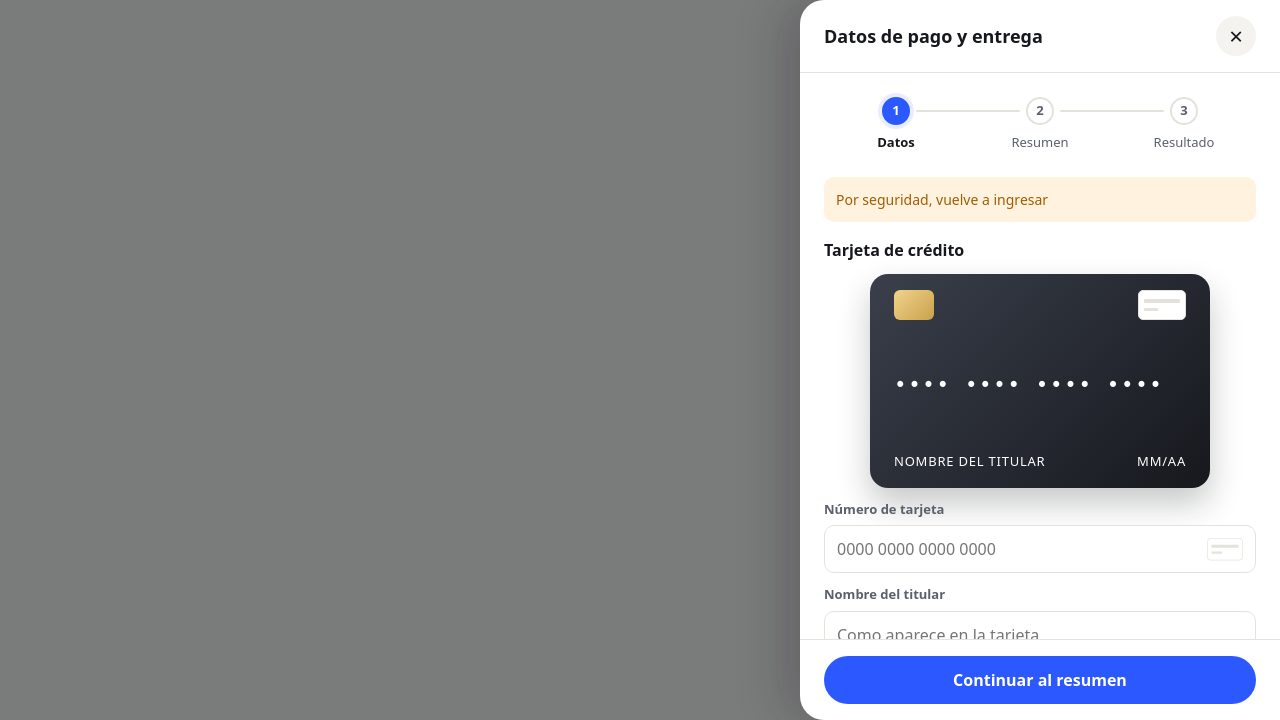
Test case: CheckoutModal › shows the tokenization error and the refresh notice
Expected: the message shows "Por seguridad", [836,190,1048,208]
Type "4242424242424242" into the field labelled "Número de tarjeta" at (1016, 549), box [825,526,1207,572]
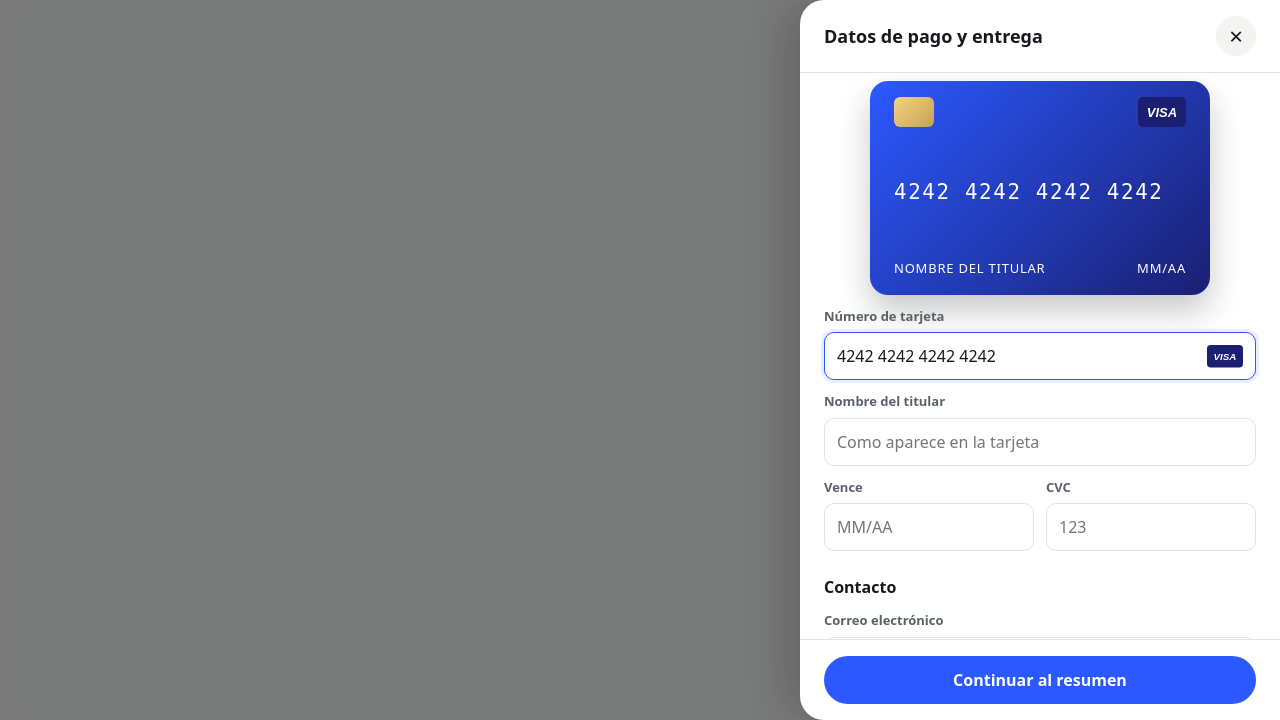
Type "Ana Gomez" into the field labelled "Nombre del titular" at (1040, 442), box [825,419,1255,465]
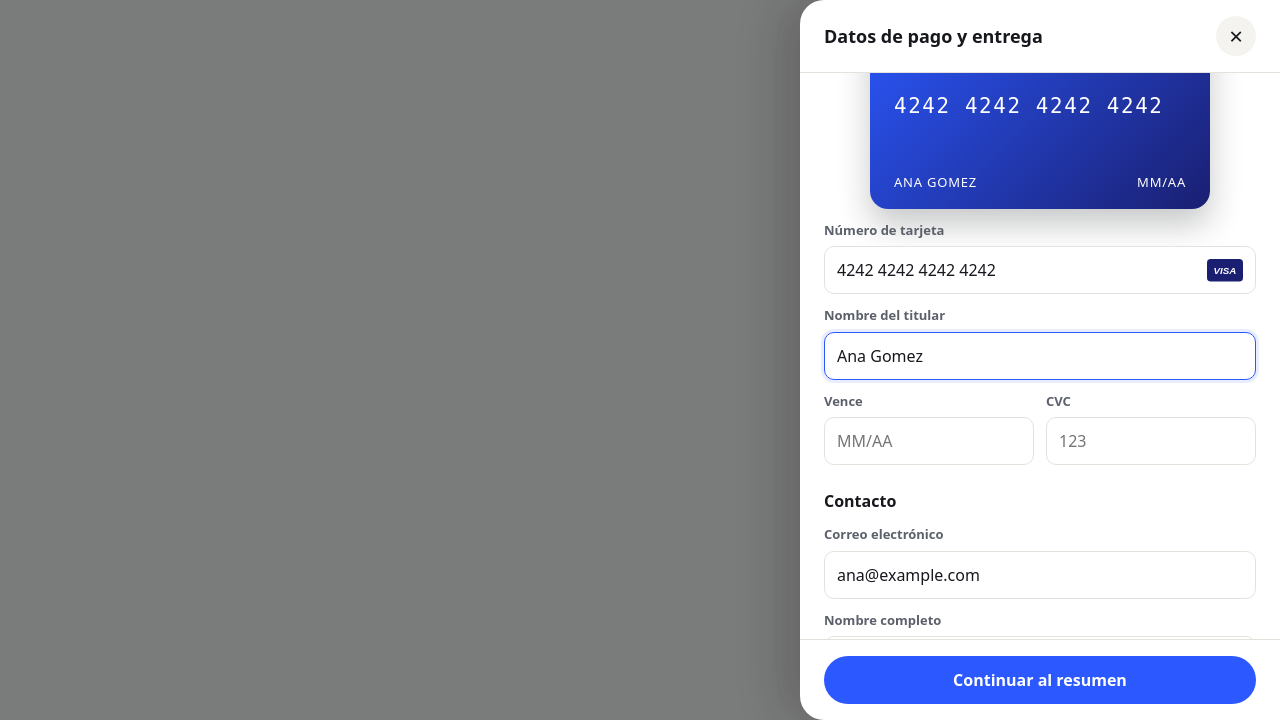
Type "1229" into the field labelled "Vence" at (929, 441), box [825,418,1033,464]
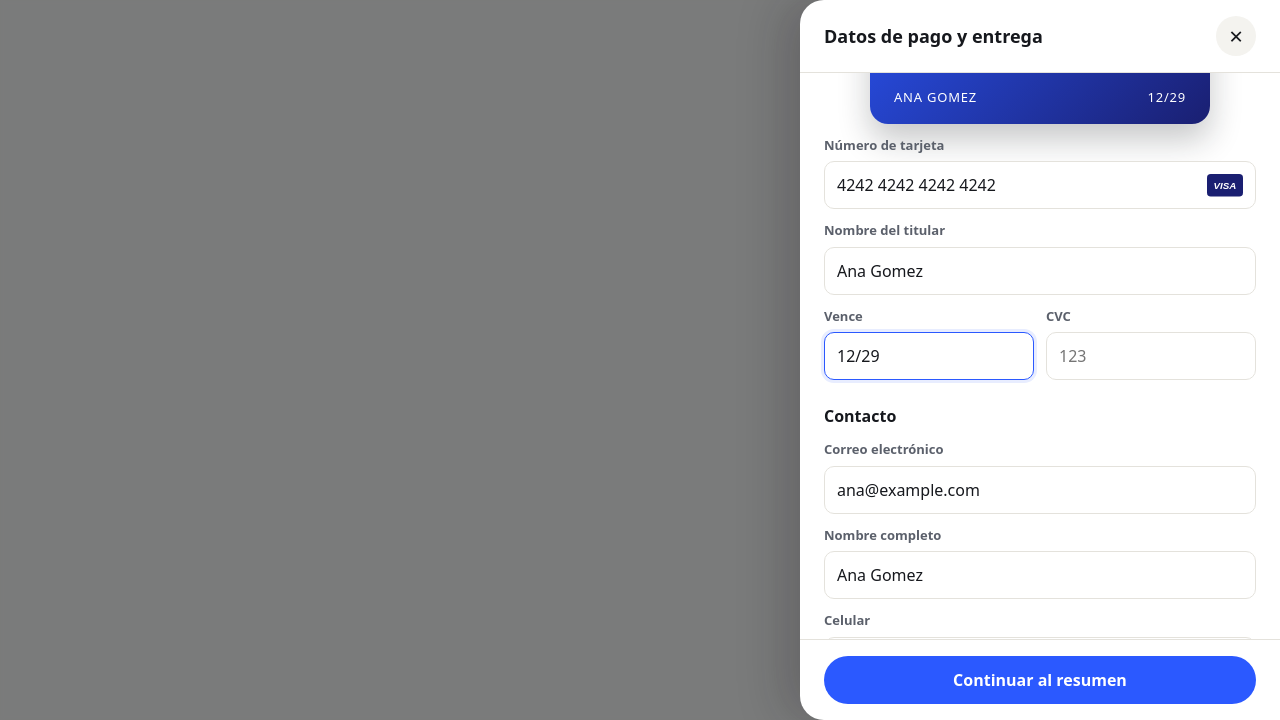
Type "123a" into the password field labelled "CVC" at (1151, 356), box [1047,333,1255,379]
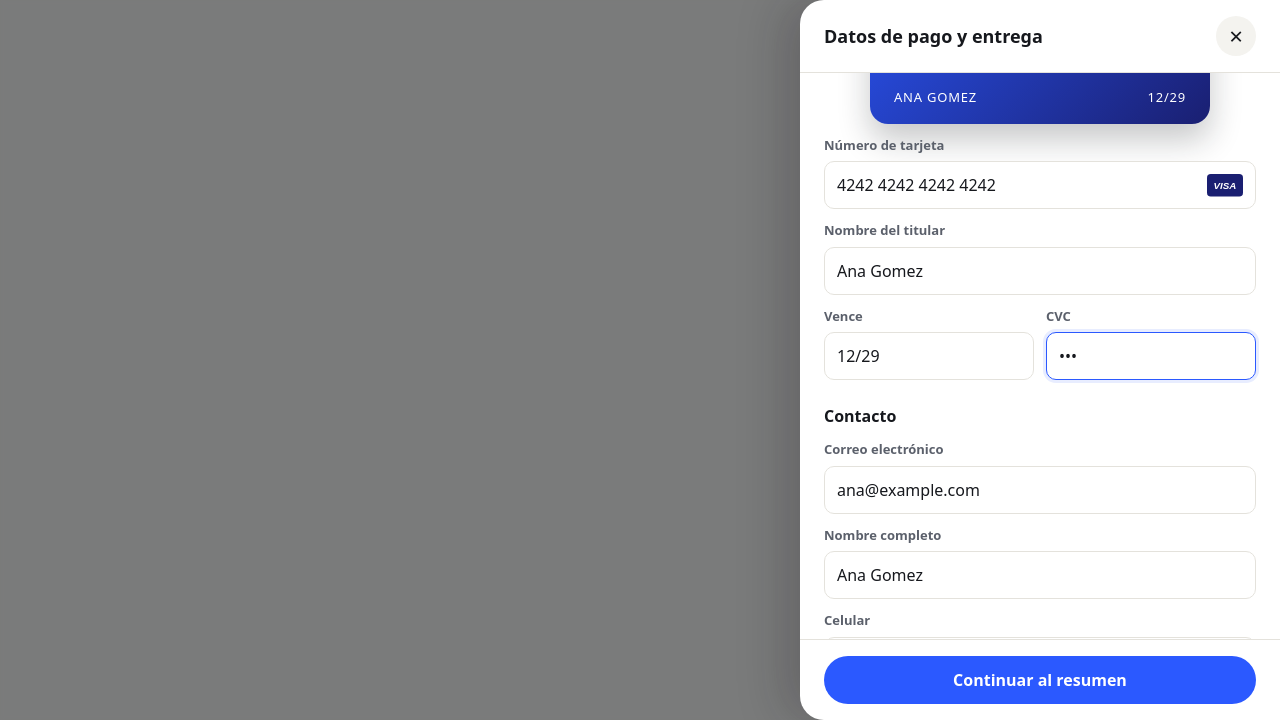
Click the button "Continuar al resumen" at (1040, 680), box [824,656,1256,704]
(page scrolled)
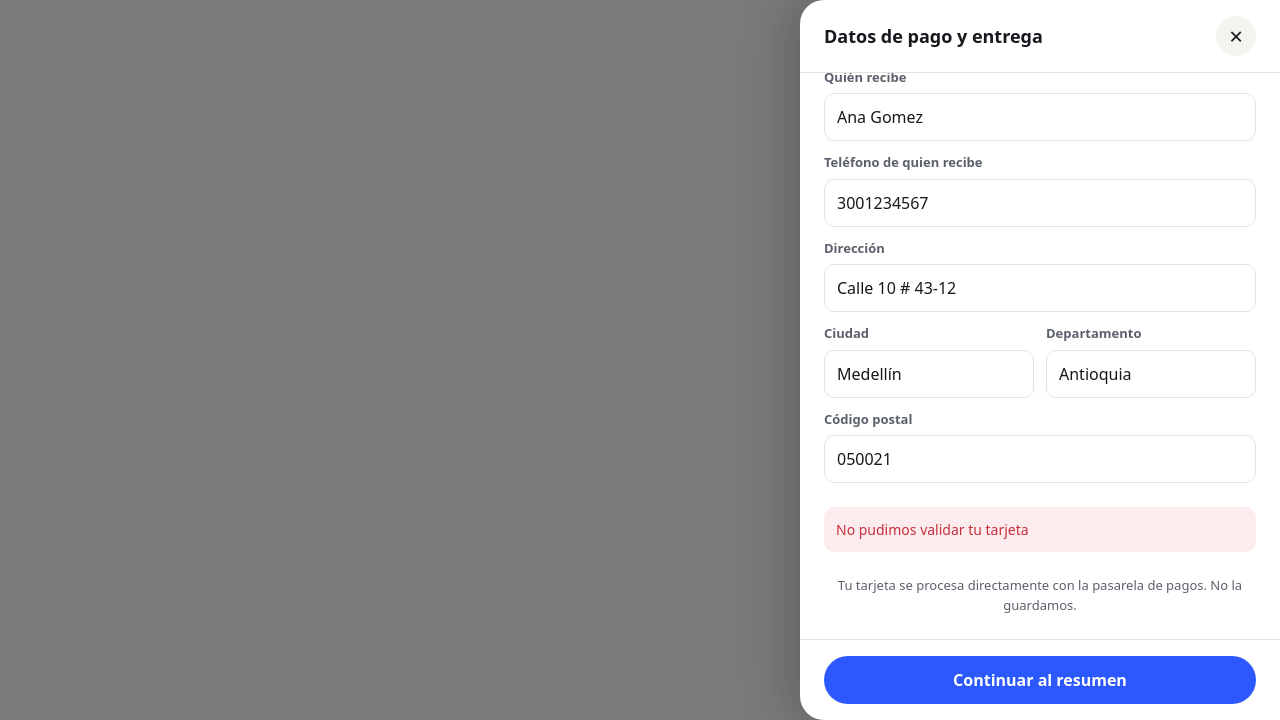
Now the text "No pudimos validar tu tarjeta" is shown, box [824,507,1256,552]
